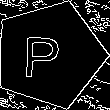P_N: (30, 29, 69, 80)
